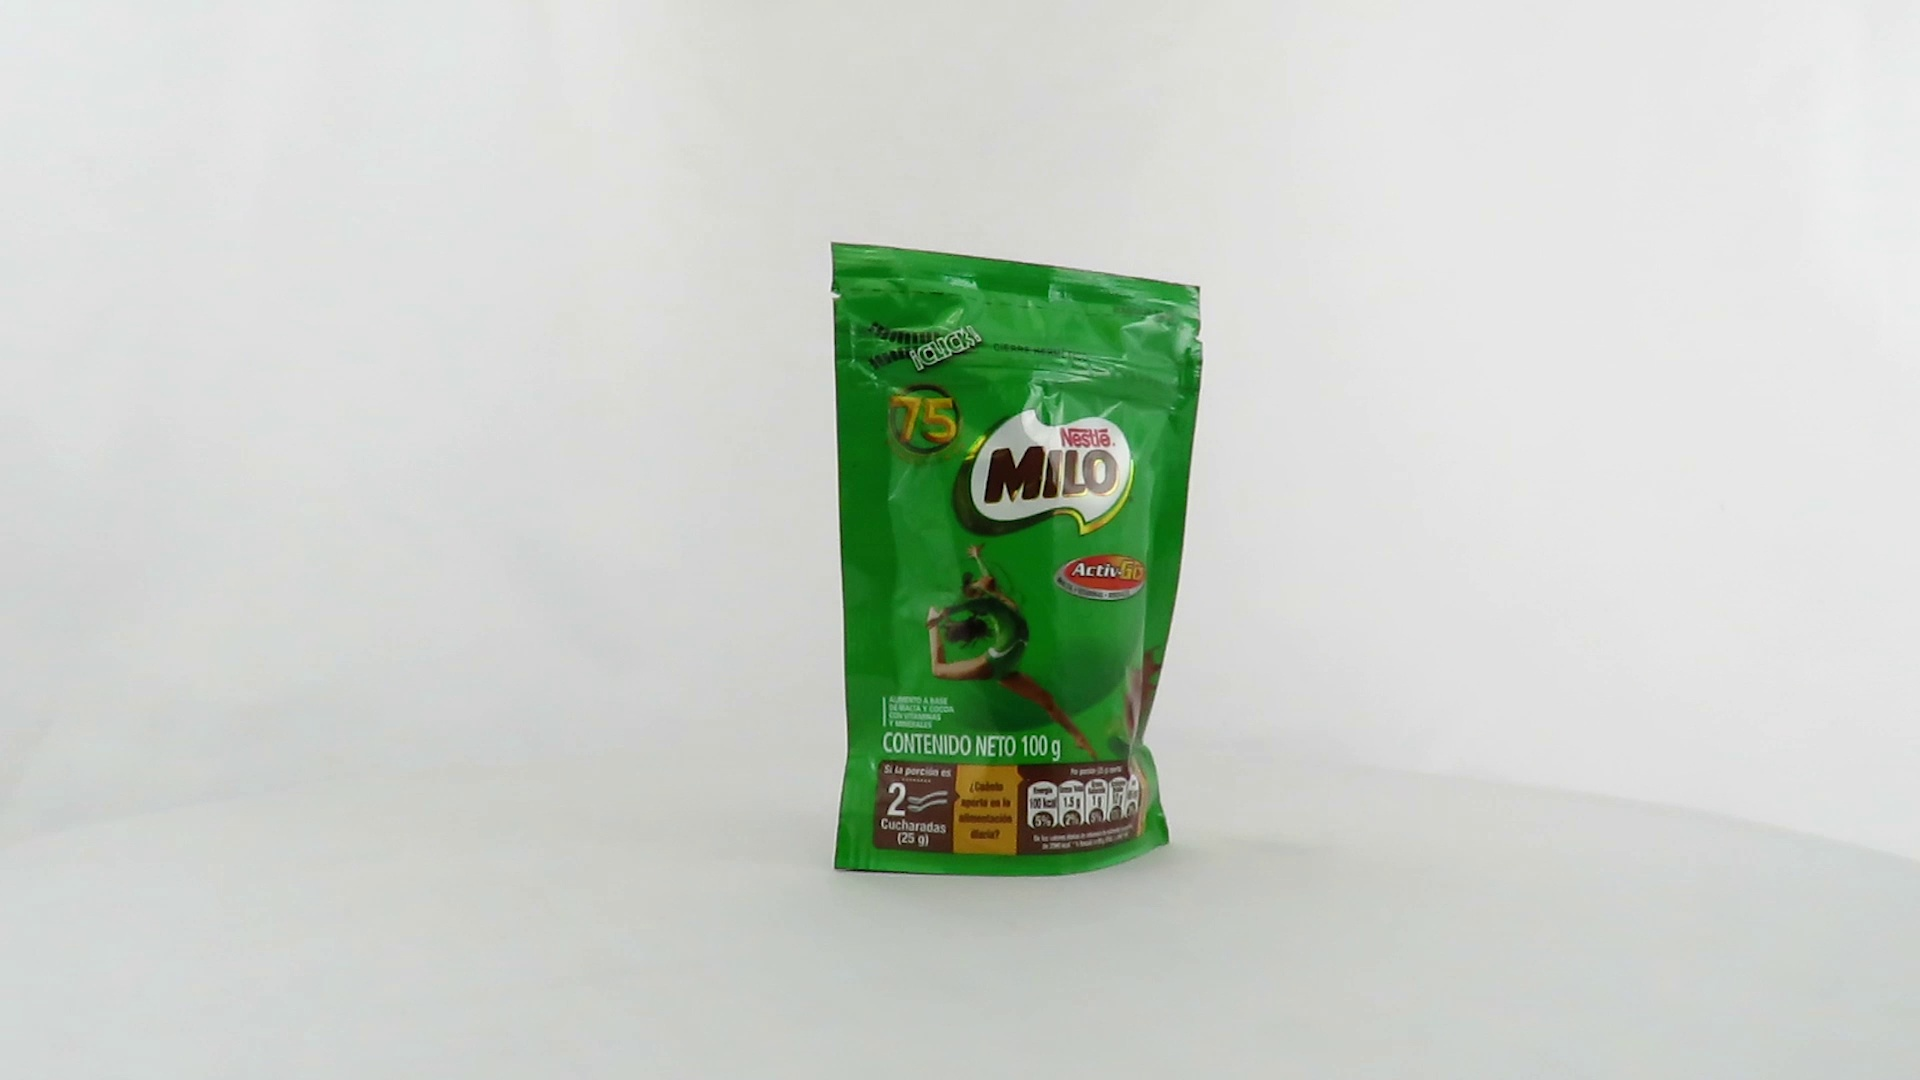COL0170203DYP10000: (825, 237, 1209, 884)
